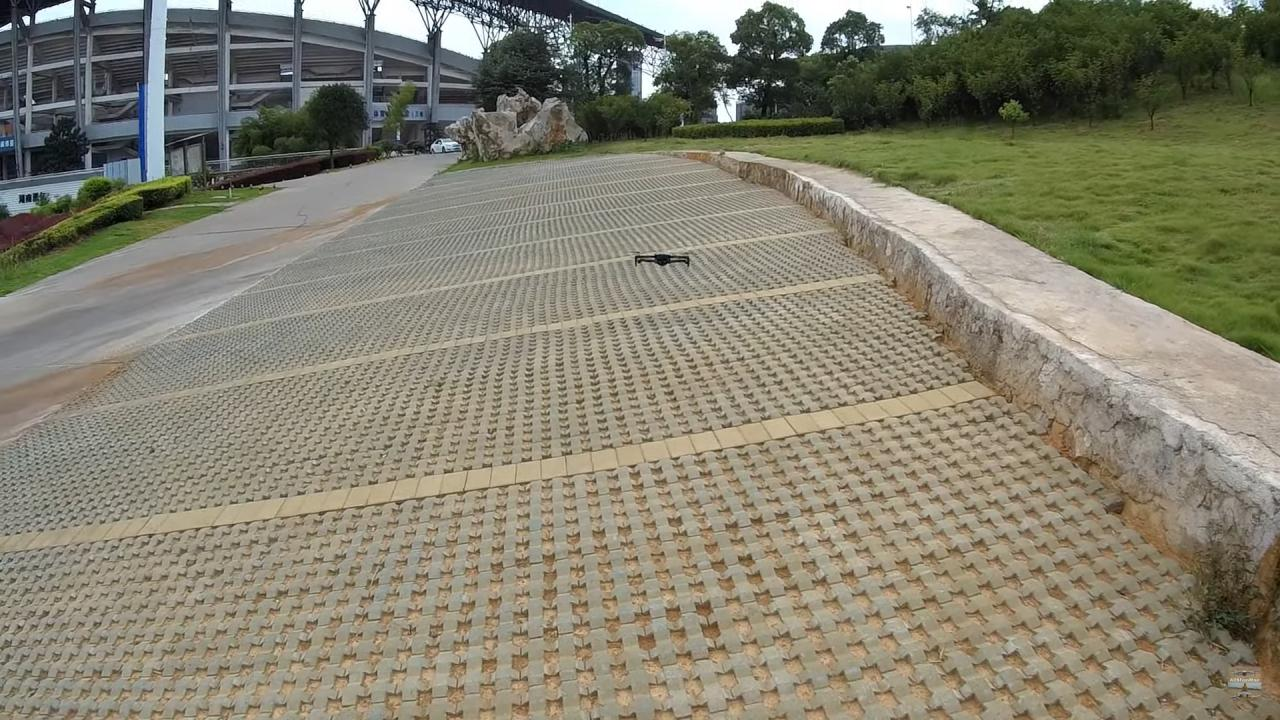Drone: (622, 241, 704, 279)
